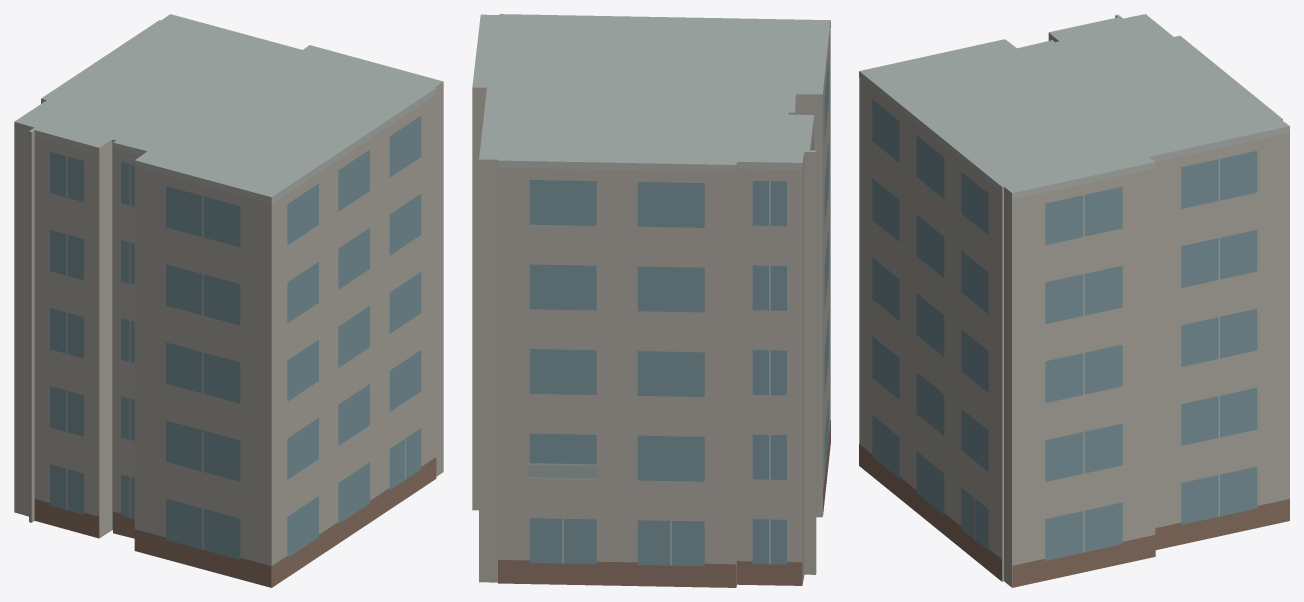
Rendered from survey-upis-32841634.glb.
The picture shows the model from 3 angles, left to right: view 1: azimuth 30°, elevation 25°; view 2: azimuth 150°, elevation 25°; view 3: azimuth 270°, elevation 25°; orthographic projection. The views are drawn at different scales.
Visible parts, largest first — view 1: survey-upis-32841634.tmp; view 2: survey-upis-32841634.tmp; view 3: survey-upis-32841634.tmp.
Part boxes in pixels (x1,y1,x2,y2): survey-upis-32841634.tmp: (14,14,443,587); survey-upis-32841634.tmp: (472,14,830,587); survey-upis-32841634.tmp: (859,14,1289,587).
Size of the model in its own units: 14.22 by 14.6 by 14.44.
